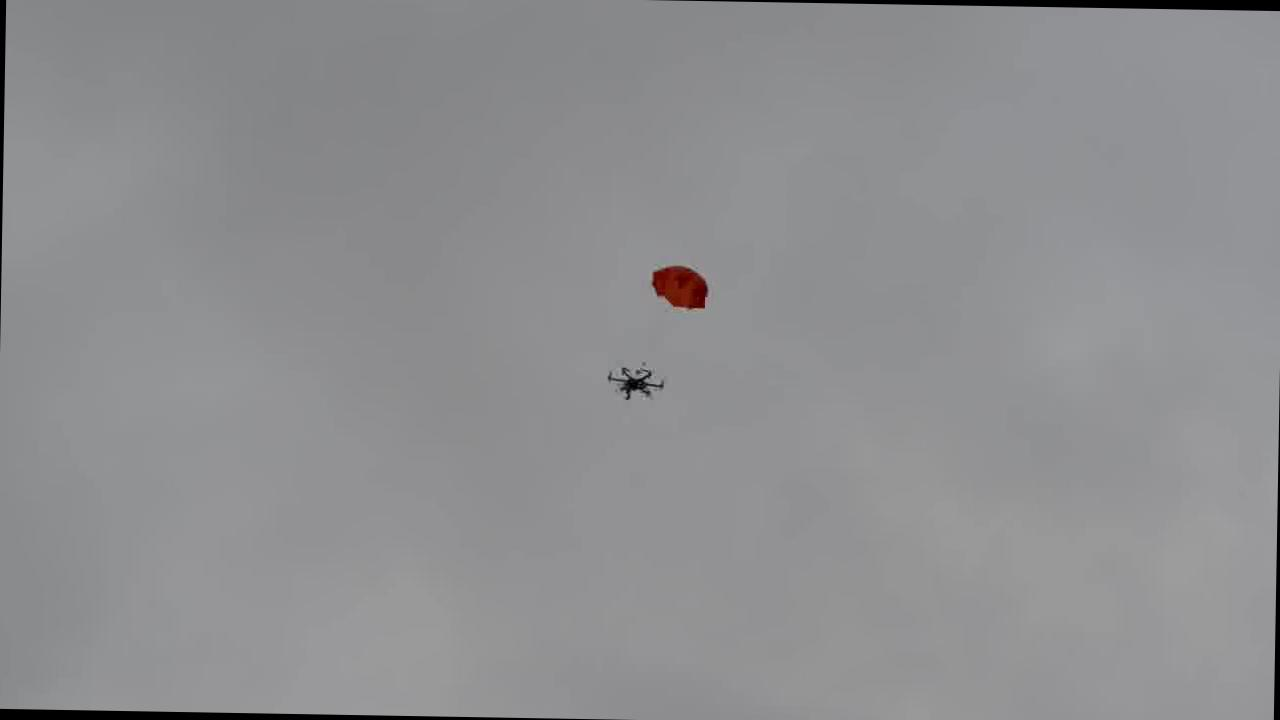drone: (602, 356, 669, 406)
